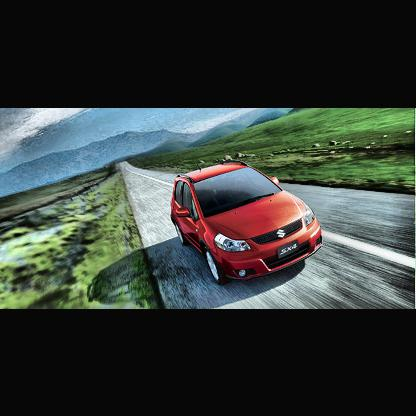Suzuki SX4 Hatchback 2012: (172, 161, 325, 287)
